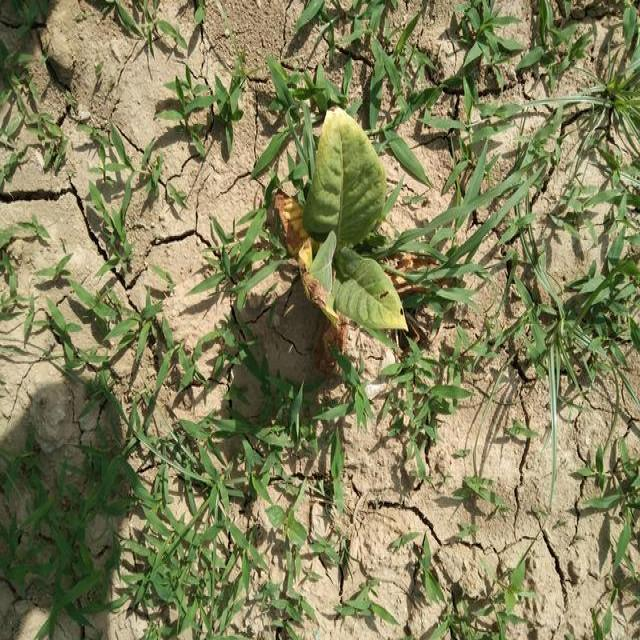crop: (309, 89, 412, 358)
